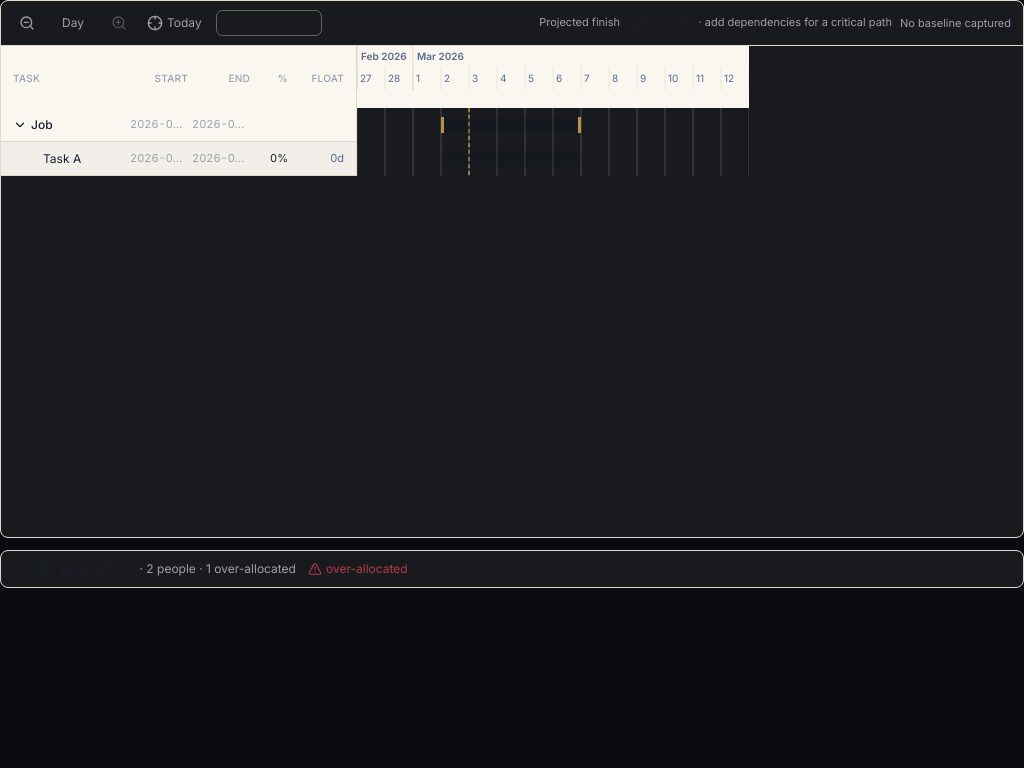
Scenario: resource pane › is offered (collapsed) with a headline summary, and expands to the rows
The width and height of the screenshot is (1024, 768).
expect the text "Task A" is shown: met, box [43,150,81,166]
expect the text "Alex Tech" is not shown: met
Click the button "Resources · 2 people · 1 over-allocated over-allocated". click: click(96, 568)
box: [1,551,1023,587]
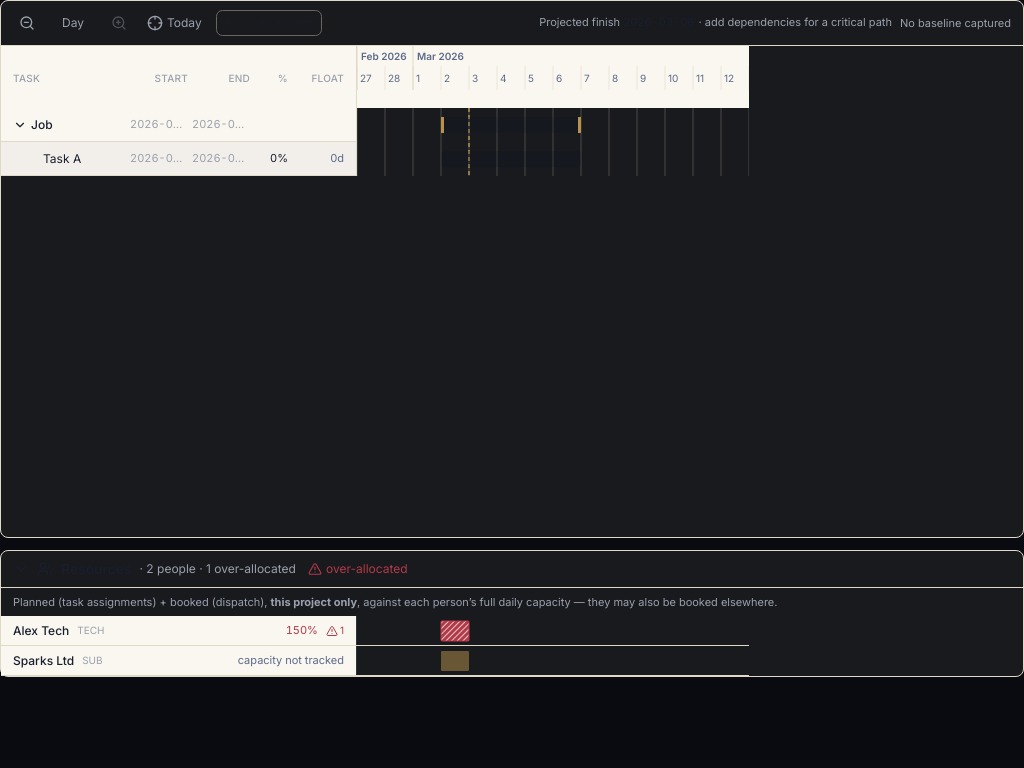
expect the text "Alex Tech" is shown: met, box [13,623,69,639]
expect the text "Sparks Ltd" is shown: met, box [13,653,74,669]
